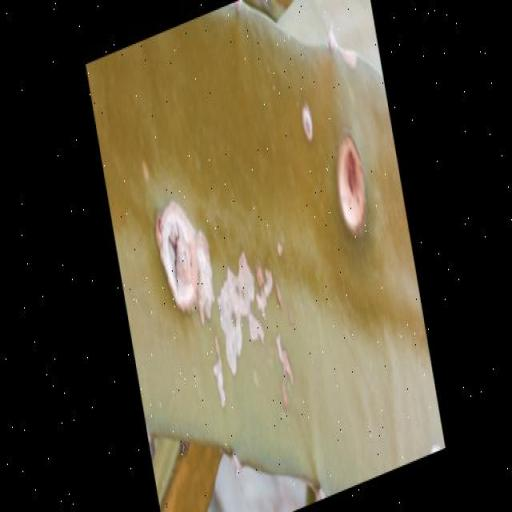stemcanker: (184, 340, 203, 385), (397, 406, 411, 446)
